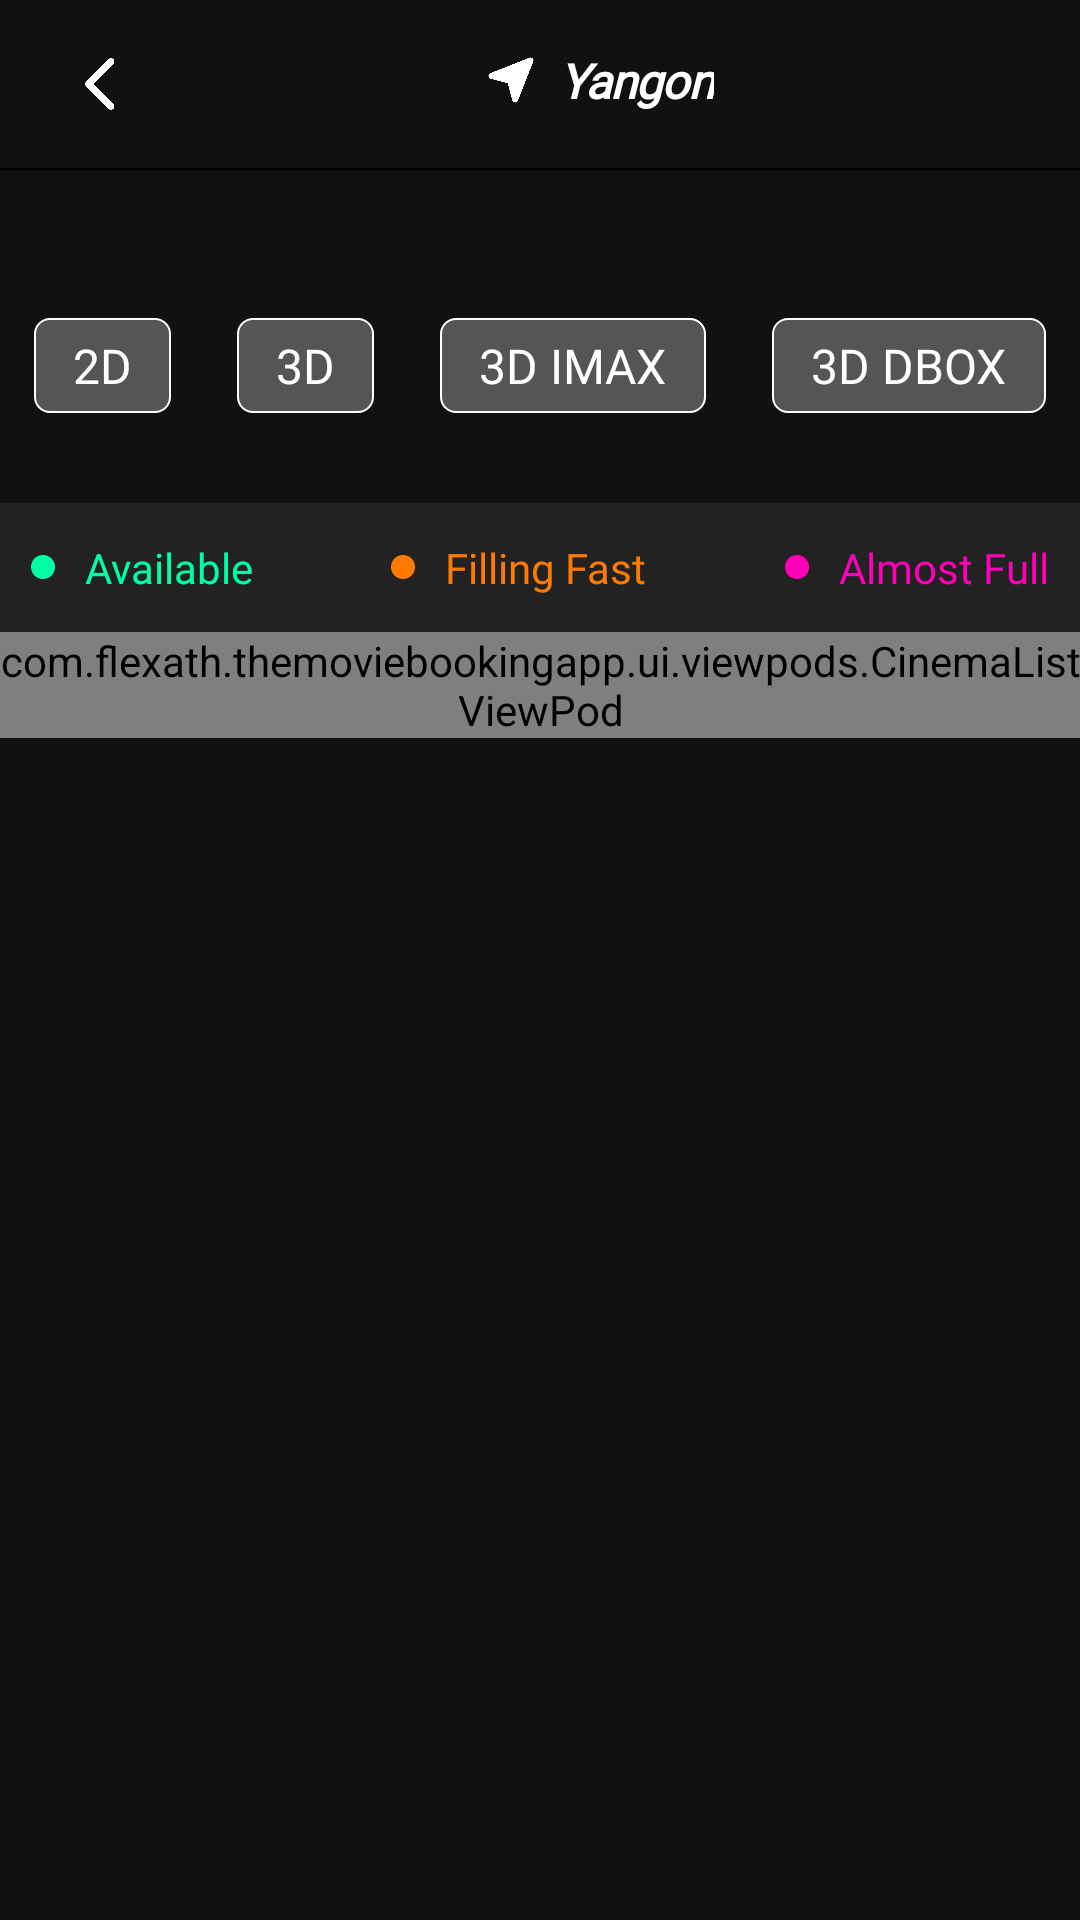

Screen size 1080 x 1920. Icon name, then its box in pixels as (x1, y1, x2, y2):
back arrow: (85, 58, 114, 110)
navigation: (488, 57, 534, 103)
